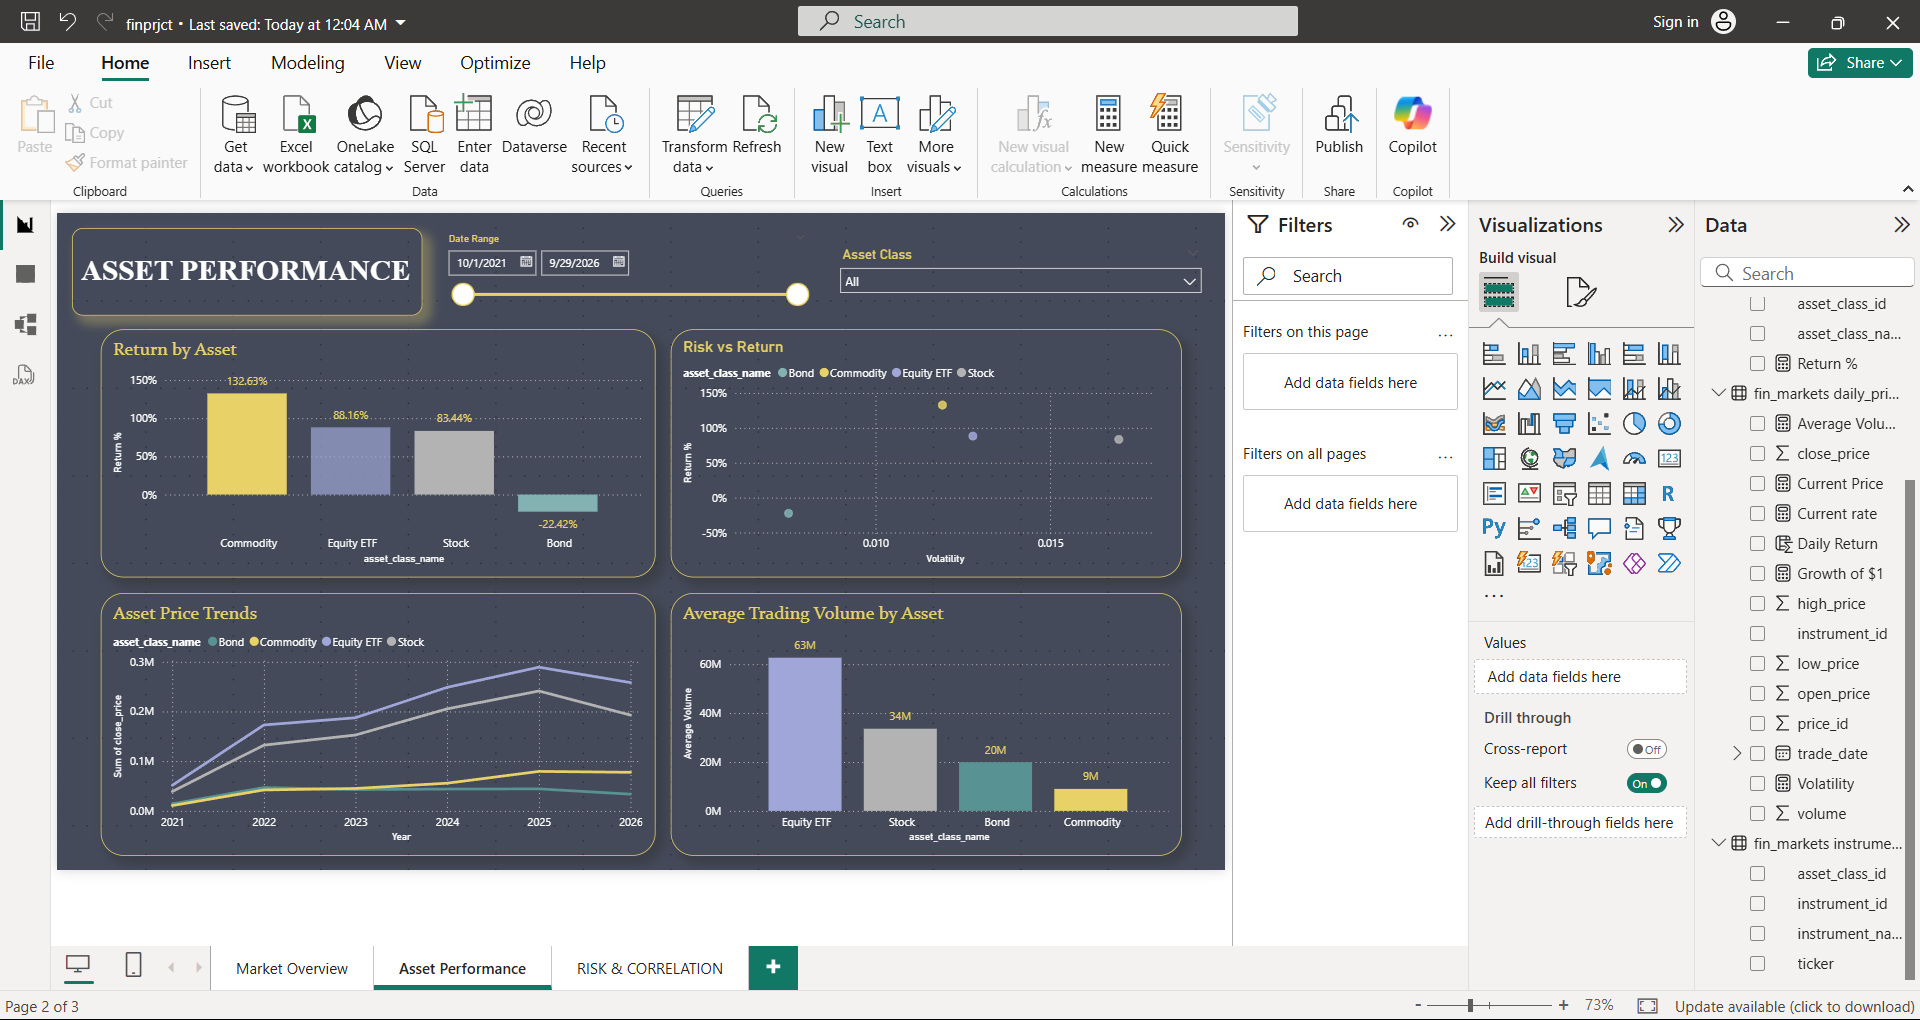

Layout of this report page (visuals, bound fields, positions):
{"tool":"powerbi","page":{"name":"Asset Performance","canvas":[1280,720],"ordinal":1},"visuals":[{"type":"clusteredColumnChart","title":"Return by Asset","fields":{"Category":["fin_markets asset_classes.asset_class_name"],"Y":["fin_markets asset_classes.Return %"]},"box":[48,128,608,272],"z":0},{"type":"lineChart","title":"Asset Price Trends","fields":{"Category":["fin_markets daily_prices.trade_date.Variation.Date Hierarchy.Year","fin_markets daily_prices.trade_date.Variation.Date Hierarchy.Quarter","fin_markets daily_prices.trade_date.Variation.Date Hierarchy.Month","fin_markets daily_prices.trade_date.Variation.Date Hierarchy.Day"],"Y":["Sum(fin_markets daily_prices.close_price)"],"Series":["fin_markets asset_classes.asset_class_name"]},"box":[48,416,608,288],"z":1000},{"type":"scatterChart","title":"Risk vs Return","fields":{"X":["fin_markets daily_prices.Volatility"],"Y":["fin_markets asset_classes.Return %"],"Series":["fin_markets asset_classes.asset_class_name"]},"box":[672,128,560,272],"z":2000},{"type":"clusteredColumnChart","title":"Average Trading Volume by Asset","fields":{"Category":["fin_markets asset_classes.asset_class_name"],"Y":["fin_markets daily_prices.Average Volume"]},"box":[672,416,560,288],"z":3000},{"type":"slicer","fields":{"Values":["fin_markets asset_classes.asset_class_name"]},"box":[848,32,416,96],"z":4000},{"type":"slicer","fields":{"Values":["fin_markets daily_prices.trade_date"]},"box":[416,16,416,96],"z":5000},{"type":"textbox","box":[16,16,384,96],"z":6000}]}

Visuals, with their boxes on the page's 1280x720 design canvas (x1, y1, x2, y2). These are canvas units, not pixel positions in the 1920x1020 screenshot, which may show the page scaled, cropped or inside an application window:
"Return by Asset" clusteredColumnChart: (left=48, top=128, right=656, bottom=400)
"Asset Price Trends" lineChart: (left=48, top=416, right=656, bottom=704)
"Risk vs Return" scatterChart: (left=672, top=128, right=1232, bottom=400)
"Average Trading Volume by Asset" clusteredColumnChart: (left=672, top=416, right=1232, bottom=704)
slicer - fin_markets asset_classes.asset_class_name: (left=848, top=32, right=1264, bottom=128)
slicer - fin_markets daily_prices.trade_date: (left=416, top=16, right=832, bottom=112)
textbox: (left=16, top=16, right=400, bottom=112)
